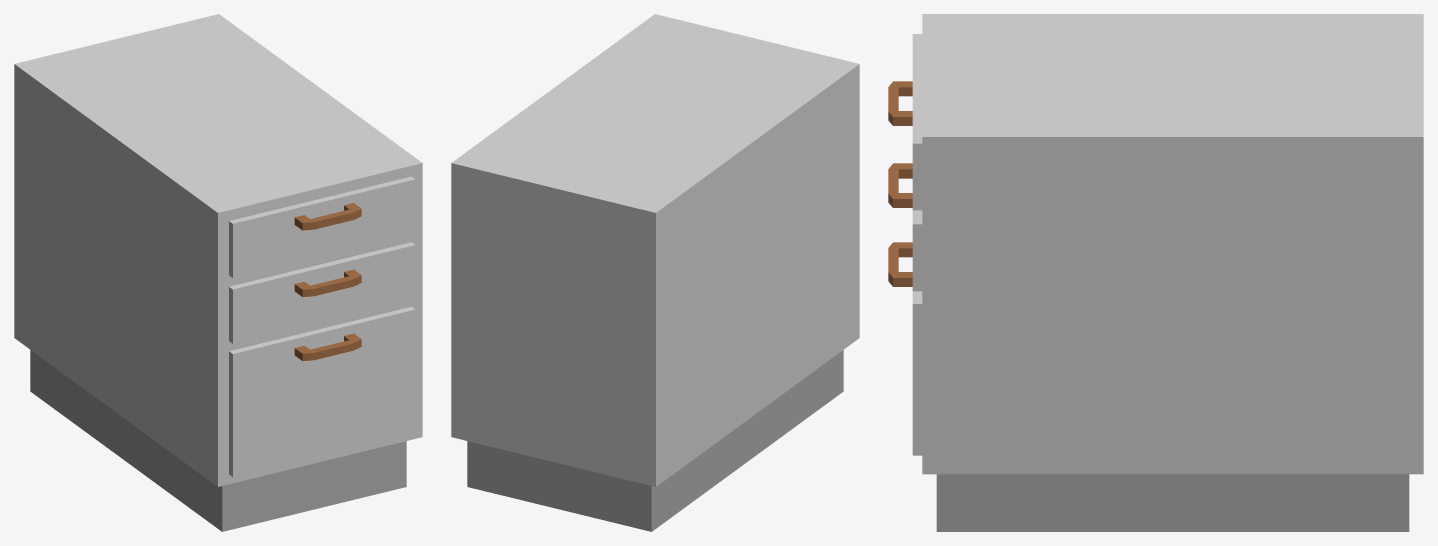
Rendered from scene_drawer.fbx.
The picture shows the model from 3 angles, left to right: view 1: azimuth 30°, elevation 25°; view 2: azimuth 150°, elevation 25°; view 3: azimuth 270°, elevation 25°; orthographic projection. The views are drawn at different scales.
Parts seen in each view (by area): view 1: drawer; view 2: drawer; view 3: drawer.
Part boxes in pixels (x1,y1,x2,y2): drawer: [14, 14, 422, 531]; drawer: [451, 14, 859, 531]; drawer: [888, 14, 1423, 531].
Bounding box in the file's own units: 50.84 × 77.3 × 93.55.
